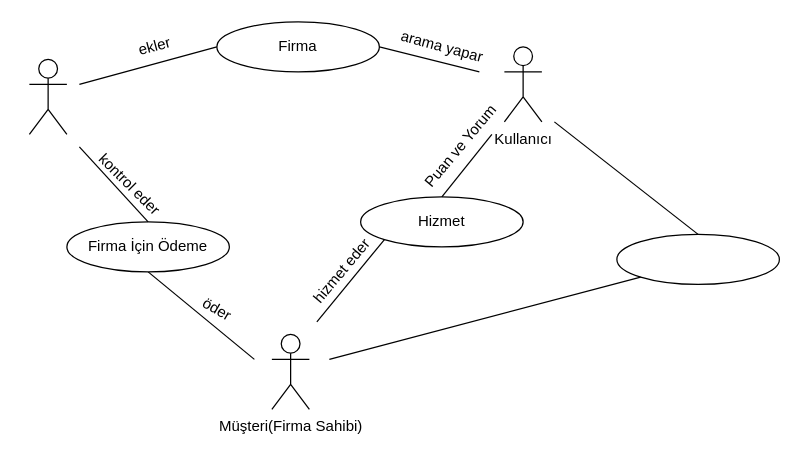
Some shapes in this 801 by 458 pixel diagram are drawn without their labels. Here are the shapes that lost their labels. From the top down, the centre of each, then its label:
At point (47, 96): "Yönetici".
At point (697, 258): "Üye Ol".
